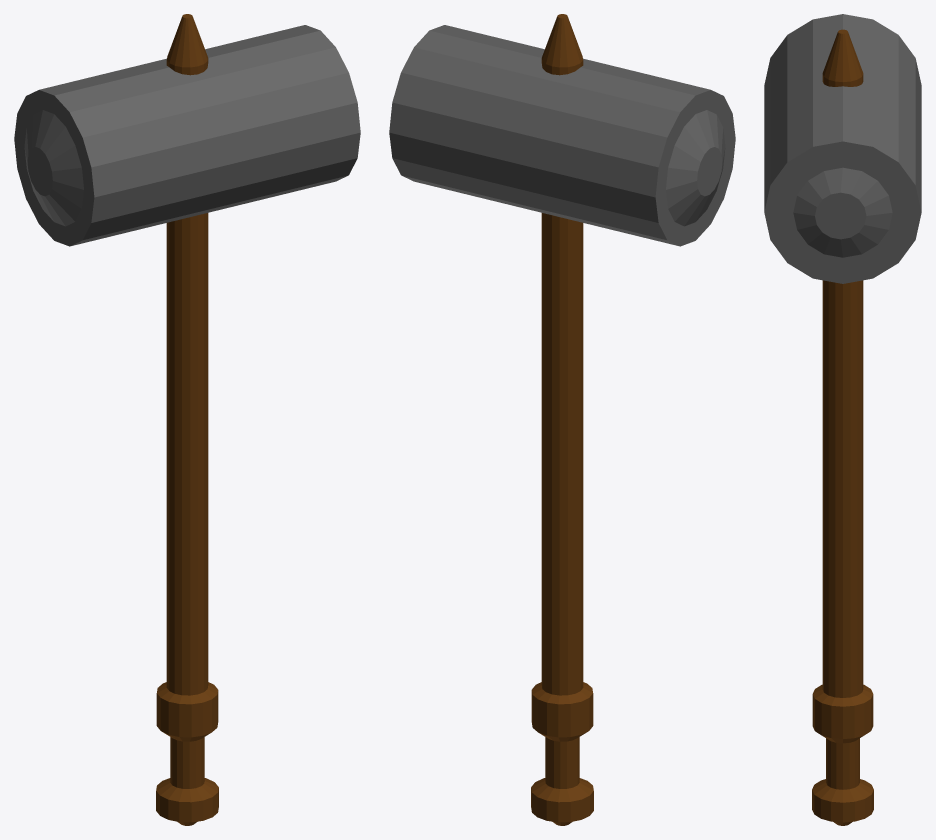
The model's file is Martelo.fbx.
3 views of the same model, side by side, from view 1: azimuth 30°, elevation 25°; view 2: azimuth 150°, elevation 25°; view 3: azimuth 270°, elevation 25° (orthographic).
Visible parts, largest first — view 1: Cylinder.001, Cylinder; view 2: Cylinder.001, Cylinder; view 3: Cylinder.001, Cylinder.
Part boxes in pixels (left/top/right/bottom): Cylinder.001: left=14, top=25, right=360, bottom=246; Cylinder: left=156, top=14, right=218, bottom=825; Cylinder.001: left=389, top=25, right=735, bottom=246; Cylinder: left=531, top=14, right=593, bottom=825; Cylinder.001: left=764, top=14, right=921, bottom=283; Cylinder: left=812, top=29, right=873, bottom=825.
Bounding box in the file's own units: 1604 × 4265 × 768.
